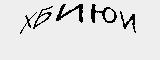Б: (33, 4, 54, 32)
И: (54, 2, 83, 25), (120, 11, 135, 34)
Х: (20, 11, 37, 37)
Ю: (89, 3, 116, 24)
